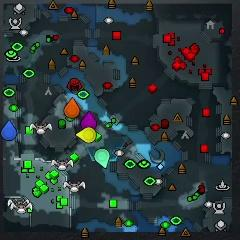p1: (1, 120, 16, 141)
p2: (95, 149, 110, 168)
p3: (81, 113, 97, 130)
p4: (77, 127, 96, 142)
p5: (64, 96, 81, 119)
